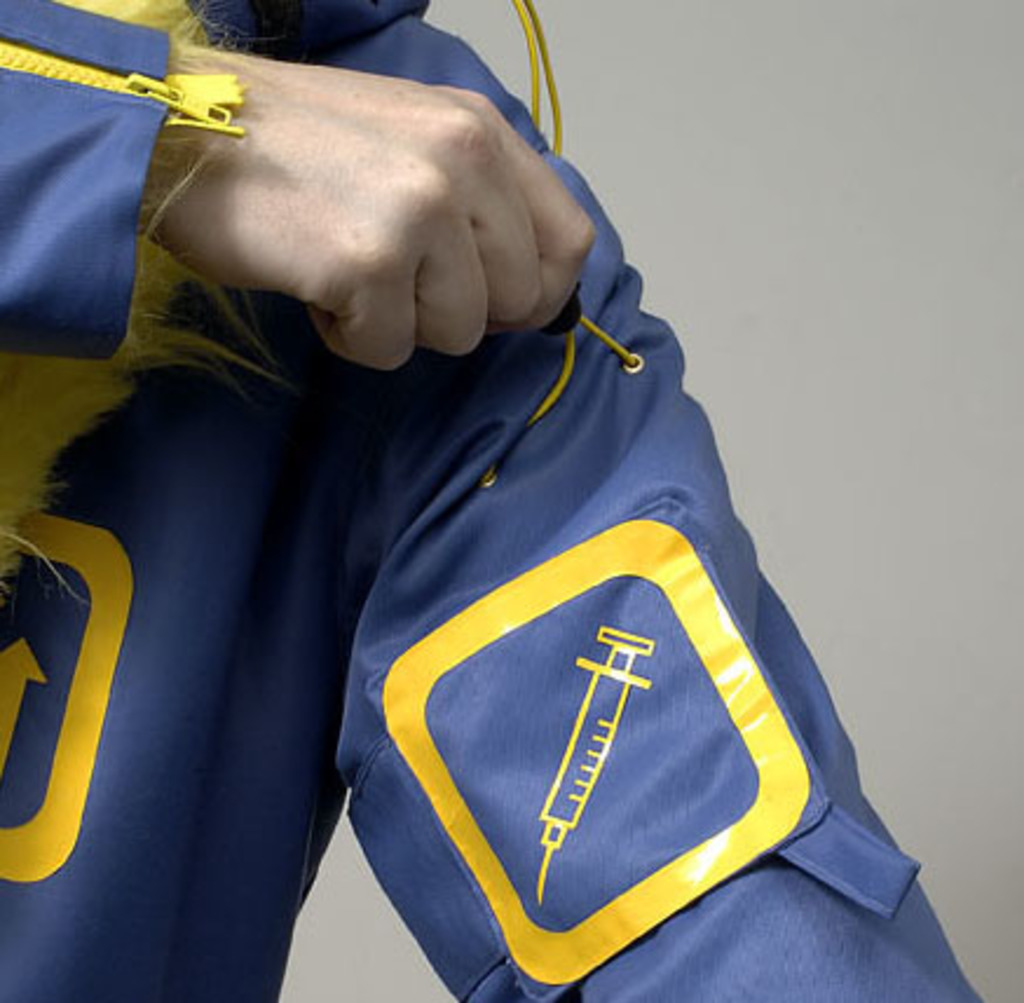Person: (0, 0, 984, 1003)
